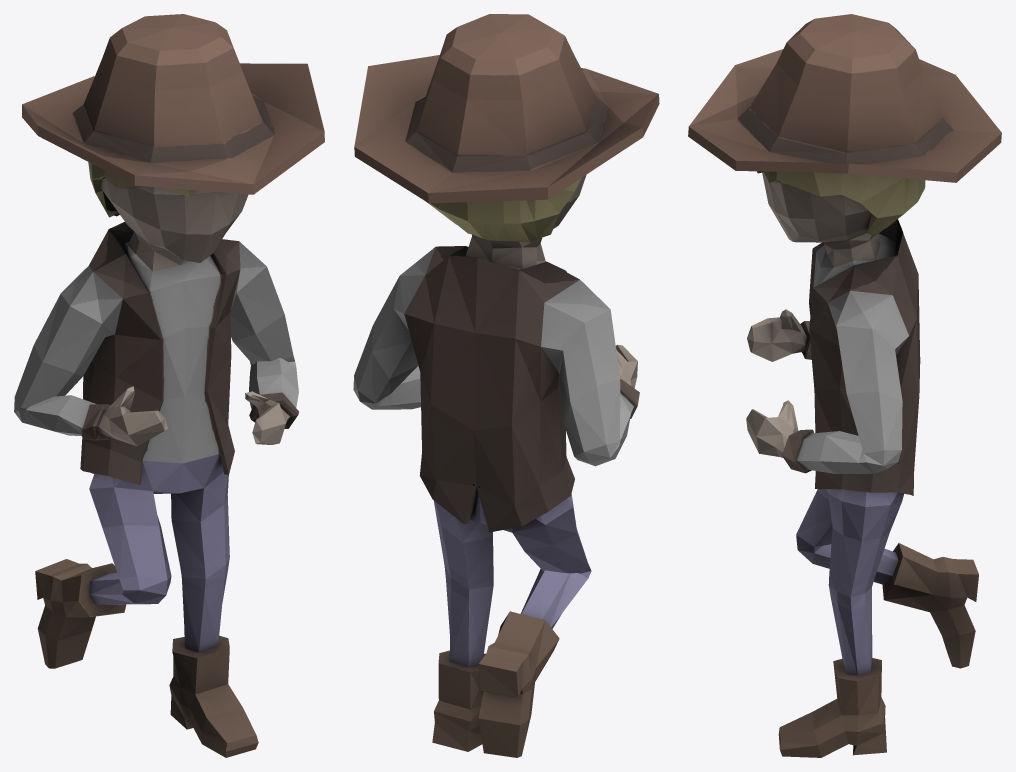
Rendered from char_5.obj.
The picture shows the model from 3 angles, left to right: view 1: azimuth 30°, elevation 25°; view 2: azimuth 150°, elevation 25°; view 3: azimuth 270°, elevation 25°; orthographic projection. The views are drawn at different scales.
Parts seen in each view (by area): view 1: Cube; view 2: Cube; view 3: Cube.
Part boxes in pixels (x1,y1,x2,y2): Cube: [14, 14, 324, 757]; Cube: [353, 14, 659, 757]; Cube: [688, 14, 1001, 757].
Bounding box in the file's own units: 3.49 × 8.72 × 3.53.
1 material, 1 textured.
